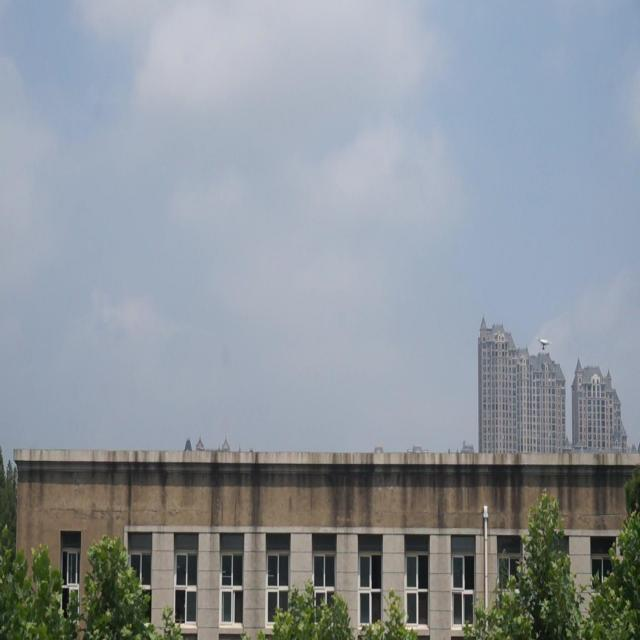UAV: (536, 336, 552, 352)
